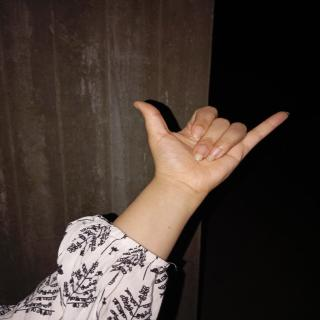YA: (125, 87, 296, 198)
